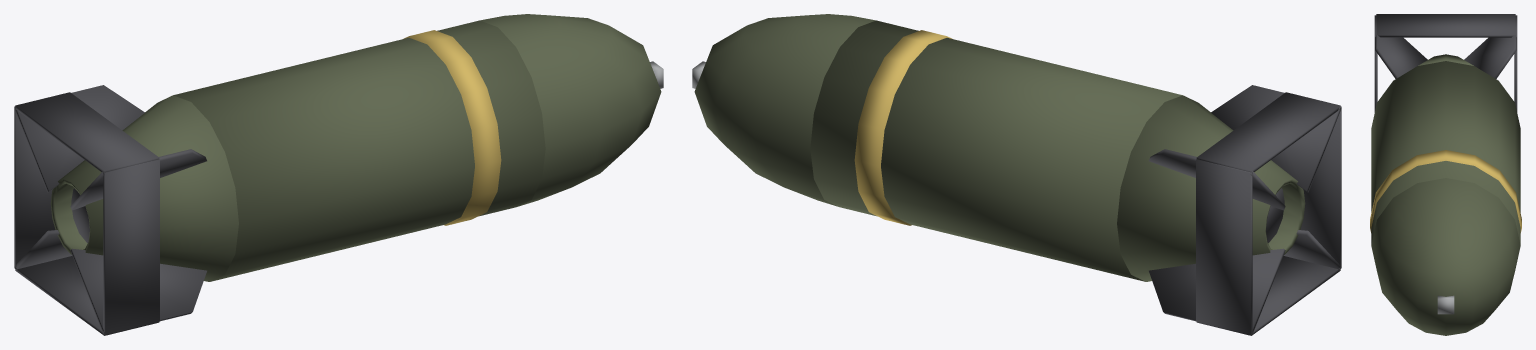
File: bombdrop_2.glb
3 renders of one model, left to right at view 1: azimuth 30°, elevation 25°; view 2: azimuth 150°, elevation 25°; view 3: azimuth 270°, elevation 25°, orthographic. The views are drawn at different scales.
Visible parts, largest first — view 1: bombdrop_2; view 2: bombdrop_2; view 3: bombdrop_2.
Boxes of the visible parts, x1=… form: bombdrop_2: x1=14, y1=14, x2=663, y2=335; bombdrop_2: x1=692, y1=14, x2=1341, y2=335; bombdrop_2: x1=1370, y1=14, x2=1521, y2=335.
Bounding box in the file's own units: 0.9402 × 0.264 × 0.264.
